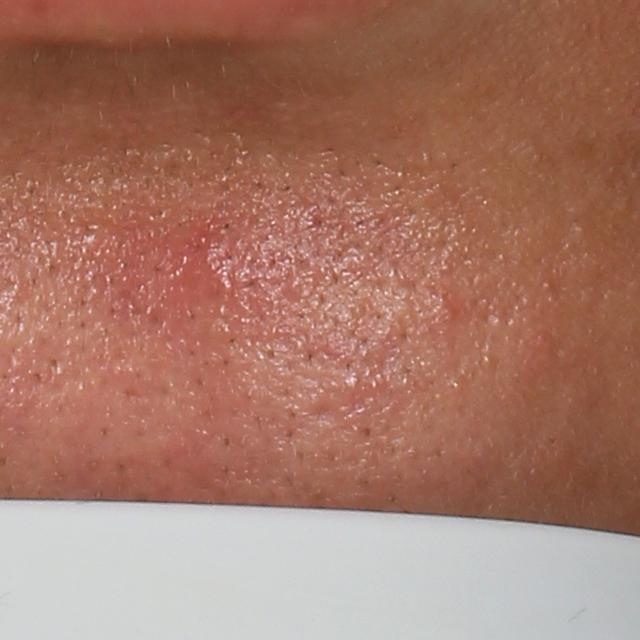comedo: (341, 373, 362, 392)
